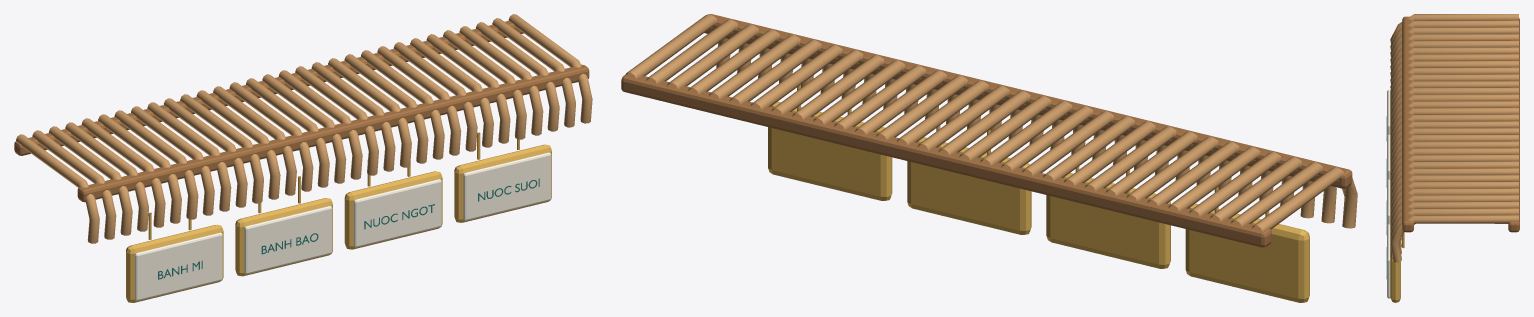
Rendered from canopy-menu.glb.
3 renders of one model, left to right at view 1: azimuth 30°, elevation 25°; view 2: azimuth 150°, elevation 25°; view 3: azimuth 270°, elevation 25°, orthographic. The views are drawn at different scales.
Visible parts, largest first — view 1: canopy_menu_batched; view 2: canopy_menu_batched; view 3: canopy_menu_batched.
Part boxes in pixels (left/top/right/bottom): canopy_menu_batched: left=14, top=14, right=592, bottom=302; canopy_menu_batched: left=621, top=14, right=1357, bottom=302; canopy_menu_batched: left=1386, top=14, right=1519, bottom=302.
Size of the model in its own units: 5.1 by 1.19 by 1.39.
